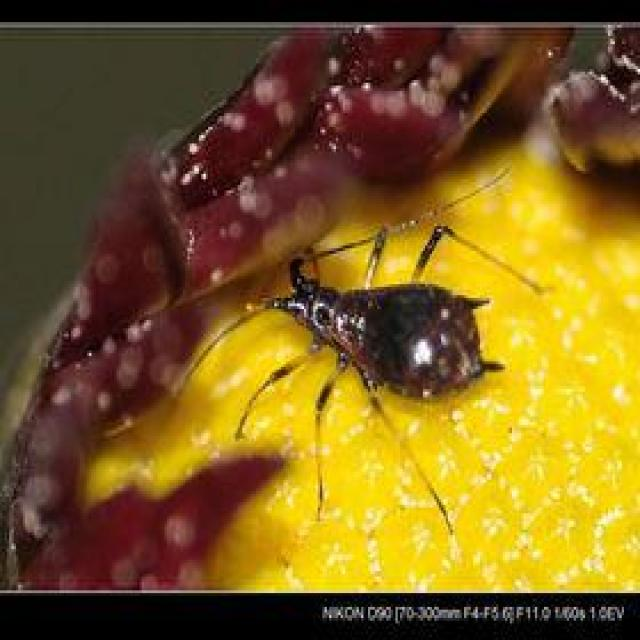Aphids: (200, 200, 524, 531)
